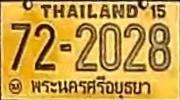0: (98, 22, 121, 71)
2: (122, 22, 146, 72), (74, 23, 96, 70), (34, 23, 54, 70)
7: (10, 22, 30, 70)
8: (148, 22, 170, 71)
AYA: (28, 74, 153, 99)
